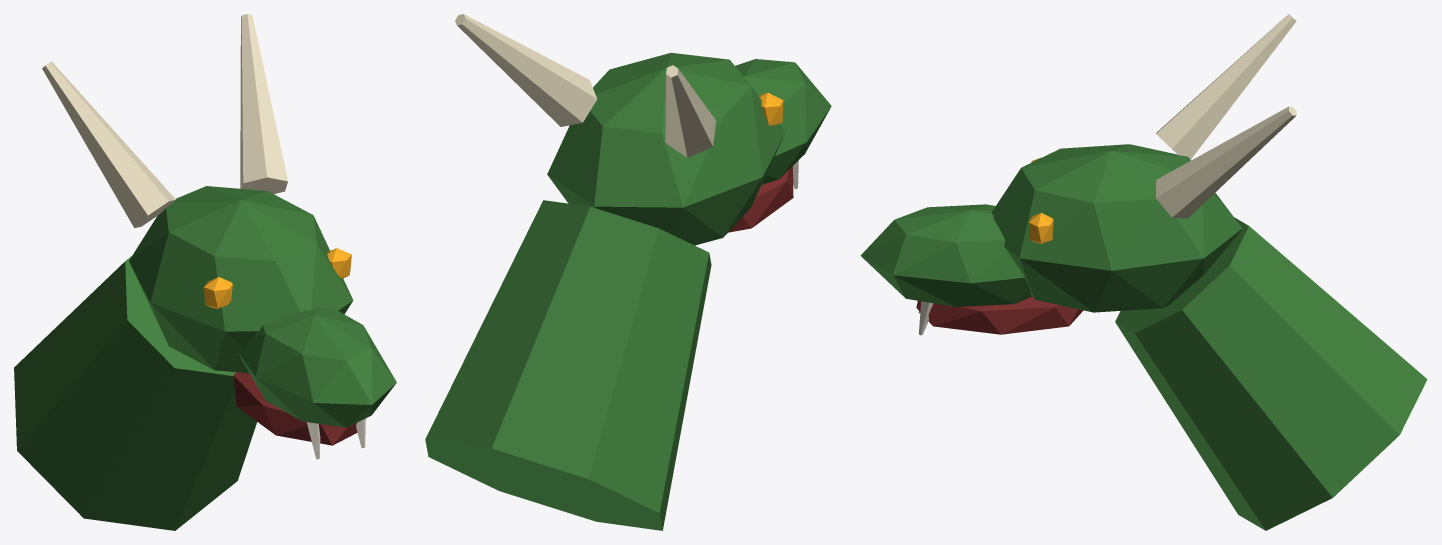
The model's file is dragon_0_head.glb.
The picture shows the model from 3 angles, left to right: view 1: azimuth 30°, elevation 25°; view 2: azimuth 150°, elevation 25°; view 3: azimuth 270°, elevation 25°; orthographic projection. The views are drawn at different scales.
Parts seen in each view (by area): view 1: dragon_0_head; view 2: dragon_0_head; view 3: dragon_0_head.
Part boxes in pixels (x1,y1,x2,y2): dragon_0_head: [14, 14, 396, 530]; dragon_0_head: [425, 14, 831, 530]; dragon_0_head: [860, 14, 1427, 530].
Size of the model in its own units: 0.48 by 0.9975 by 1.13.
